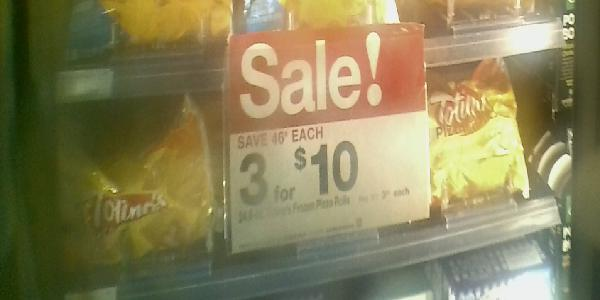icecream: (37, 95, 223, 278), (406, 58, 538, 221)
